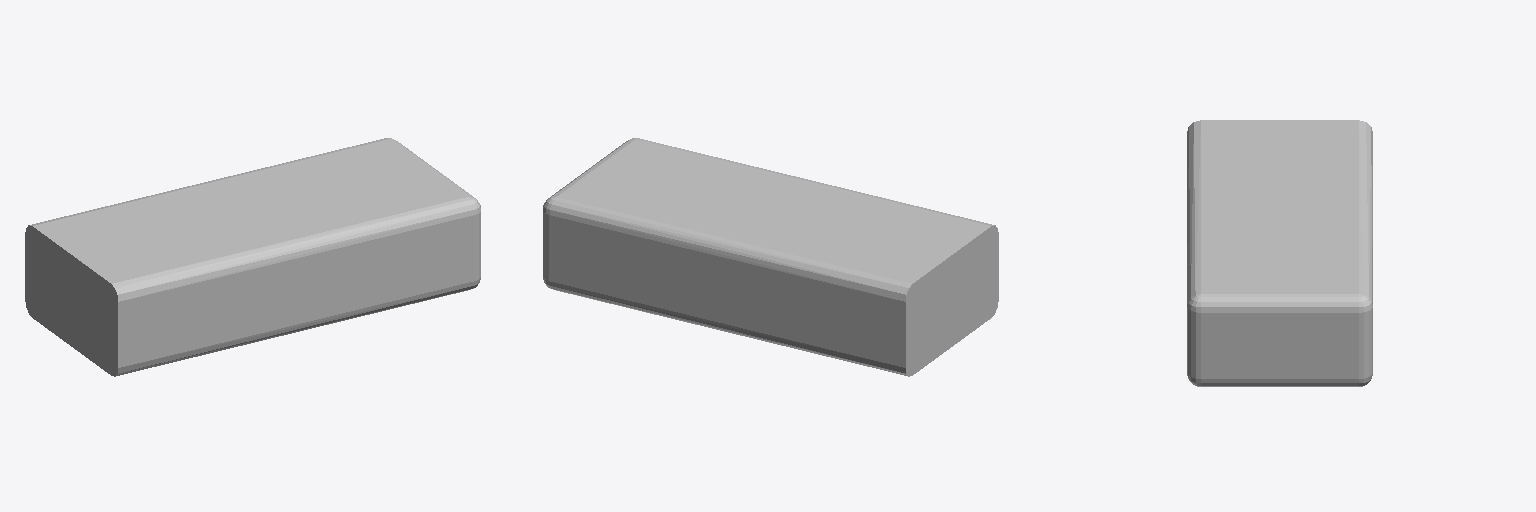
The model's file is l_gripper_finger_link.obj.
The picture shows the model from 3 angles: view 1: azimuth 30°, elevation 25°; view 2: azimuth 150°, elevation 25°; view 3: azimuth 270°, elevation 25°; orthographic projection.
Parts seen in each view (by area): view 1: l_gripper_finger_link; view 2: l_gripper_finger_link; view 3: l_gripper_finger_link.
Boxes of the visible parts, box(x1,y1,x2,y2) form: l_gripper_finger_link: box(25, 138, 480, 376); l_gripper_finger_link: box(543, 138, 998, 376); l_gripper_finger_link: box(1187, 120, 1372, 386).
Bounding box in the file's own units: 0.06 × 0.0143 × 0.0263.